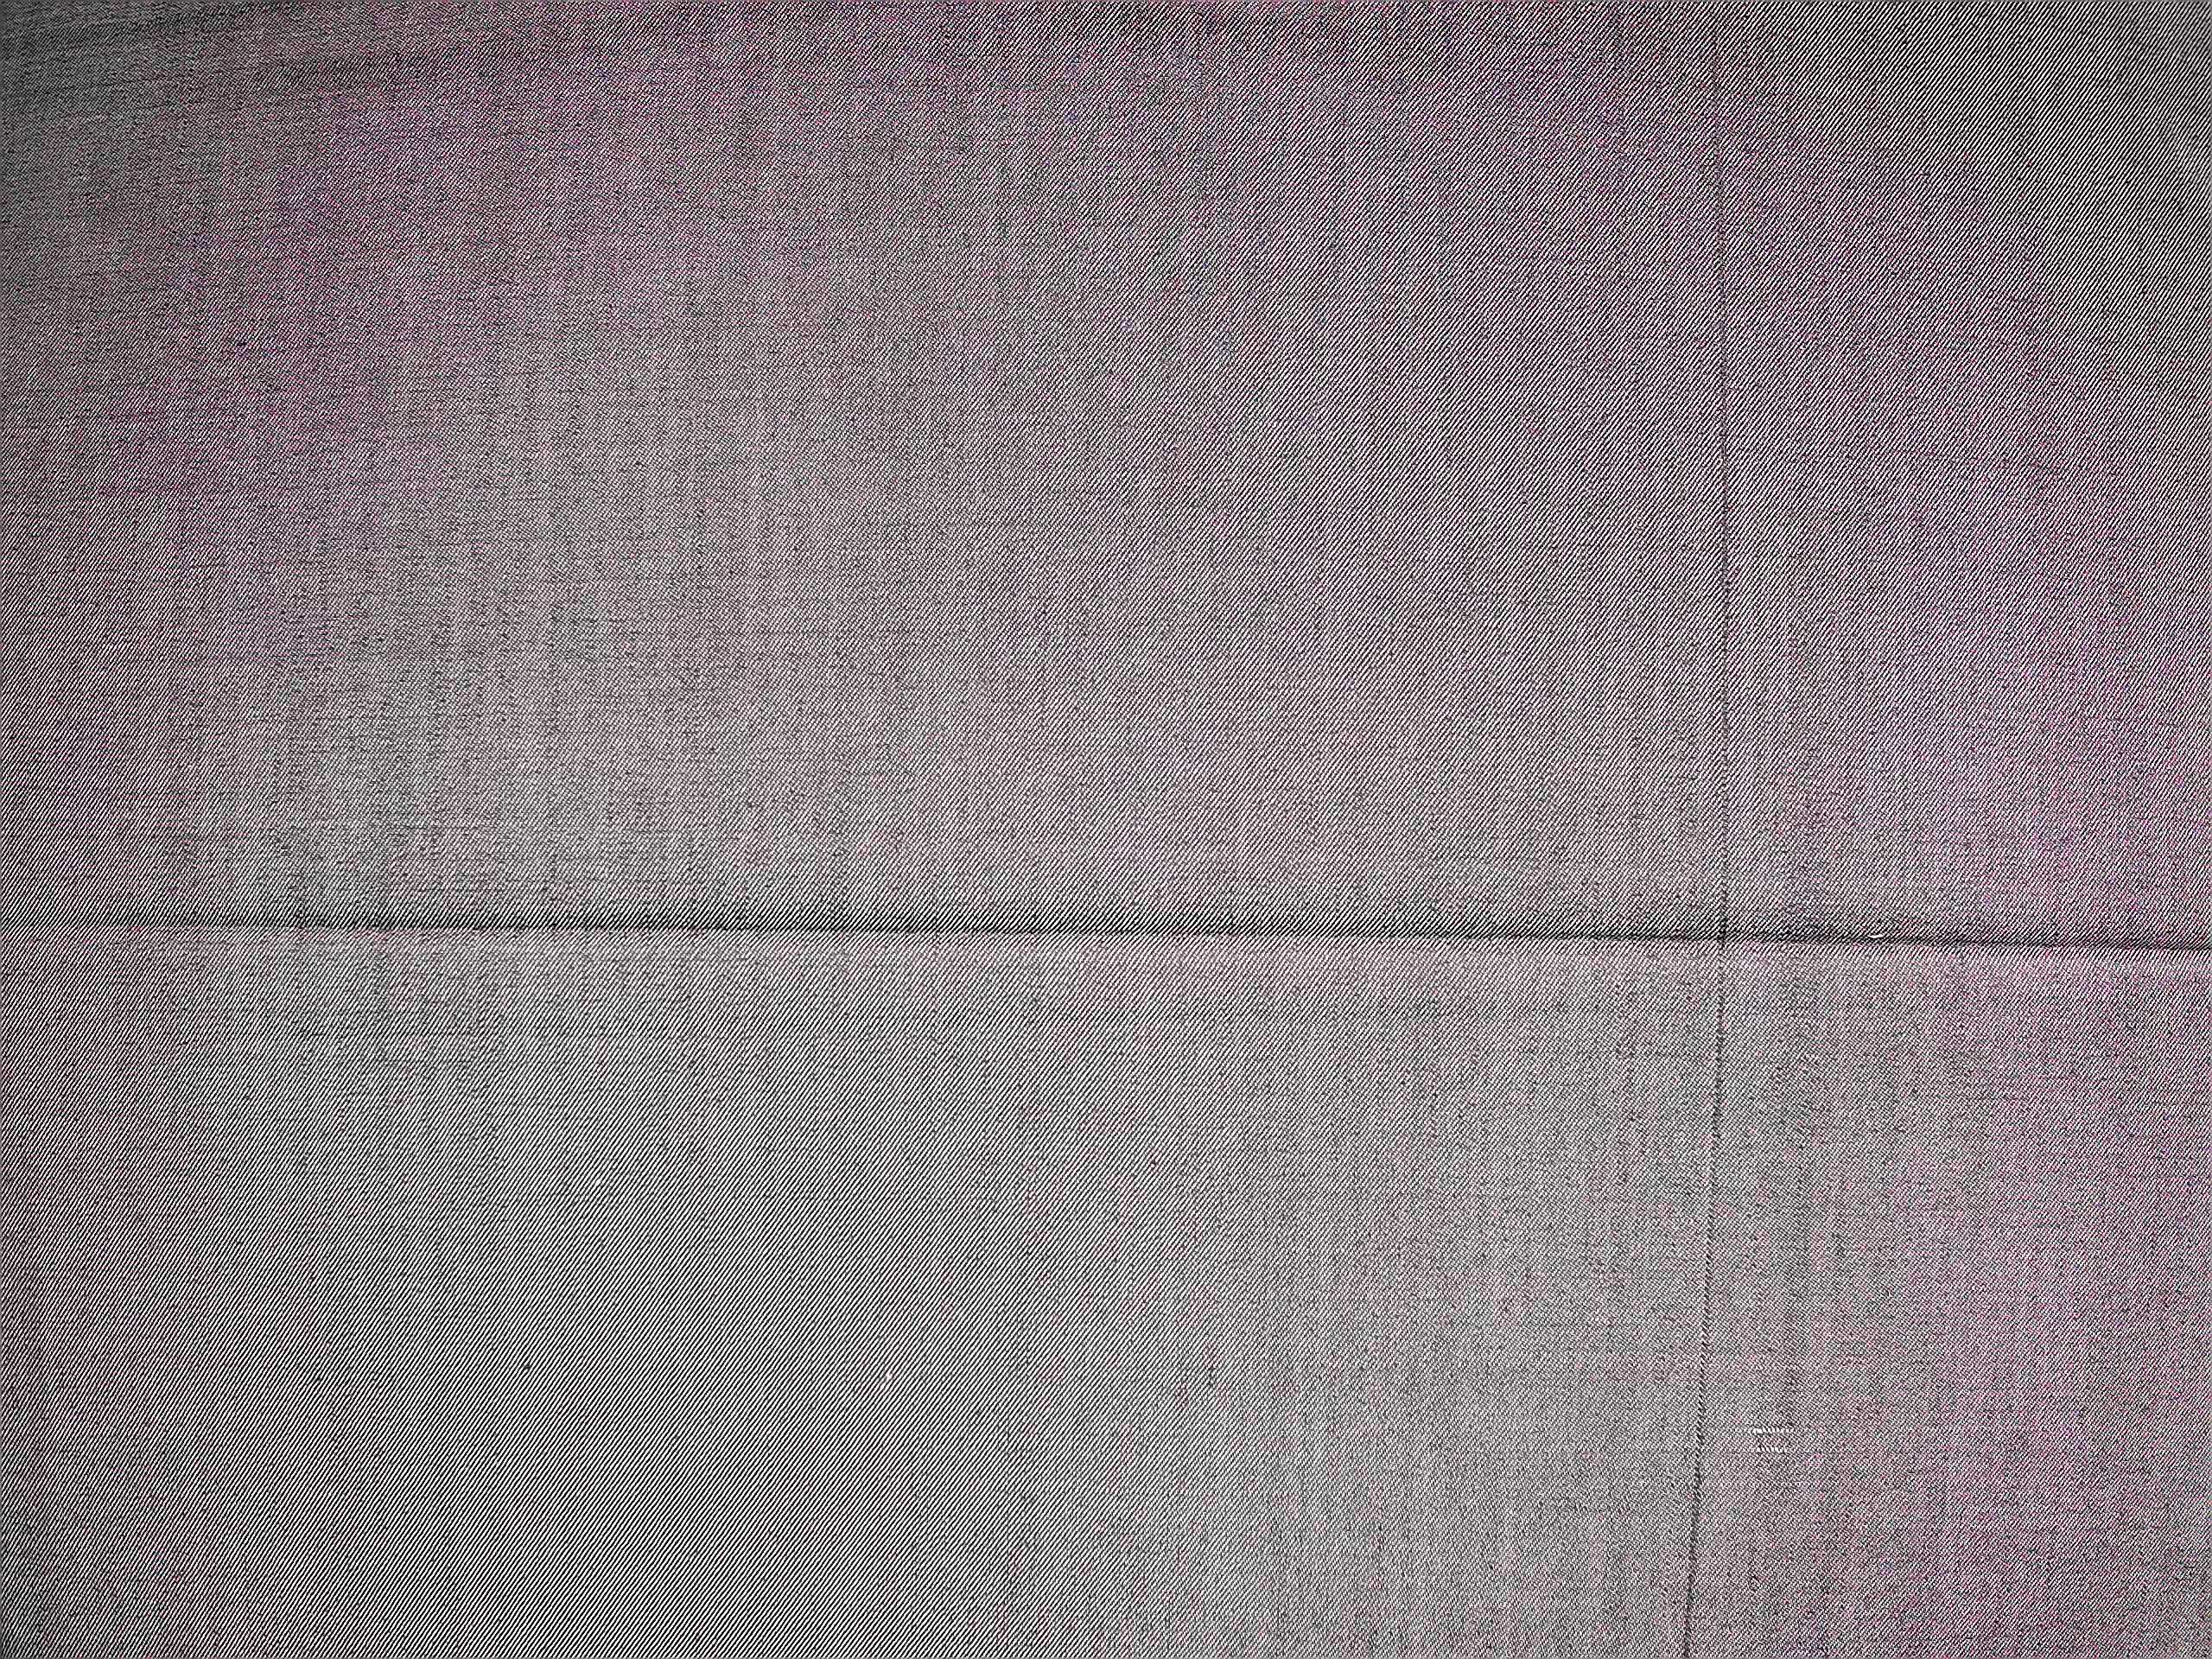others: (1669, 24, 1743, 1643)
